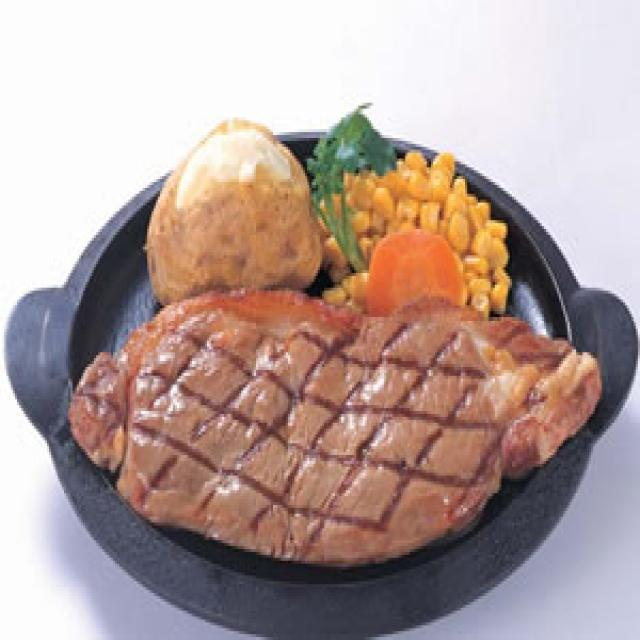Beef Steak: (66, 288, 591, 568)
